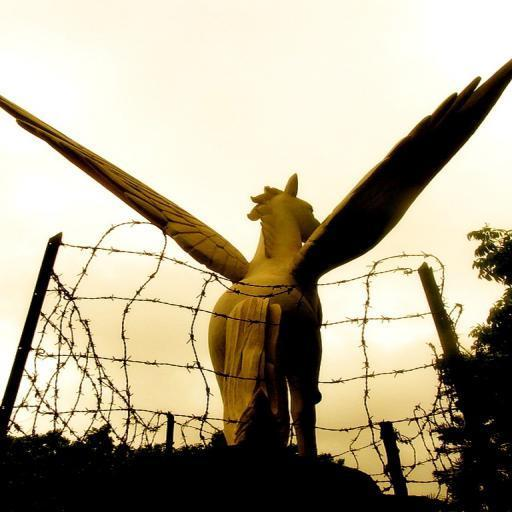horse: (0, 64, 511, 456)
